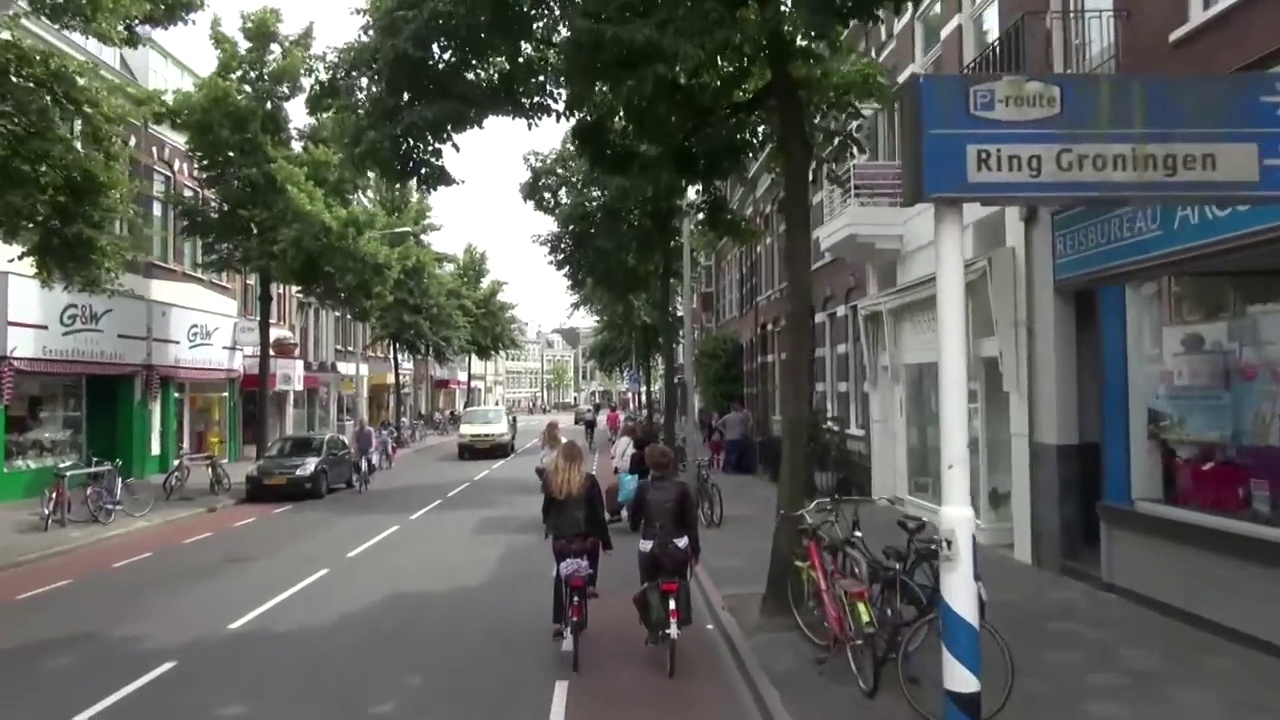cyclist_back: (625, 442, 706, 680), (543, 438, 613, 672), (581, 399, 601, 448)
